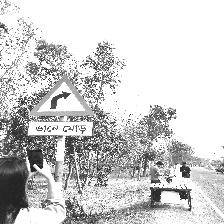Right-turn: (28, 74, 96, 138)
